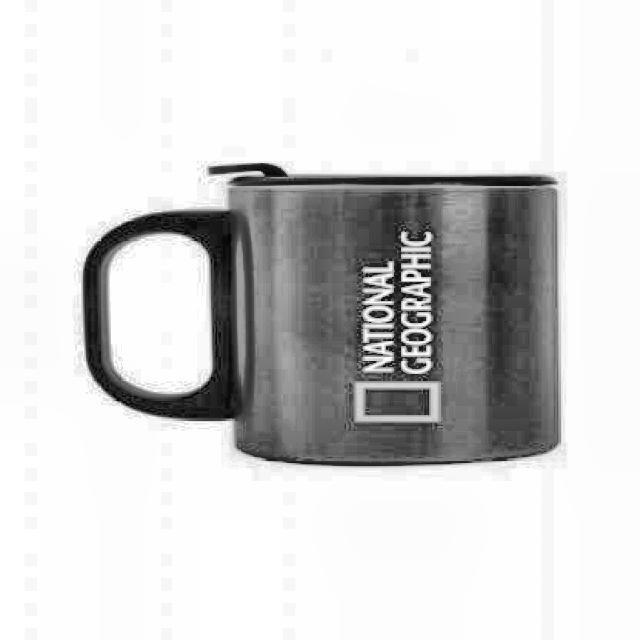Mug: (77, 175, 568, 467)
